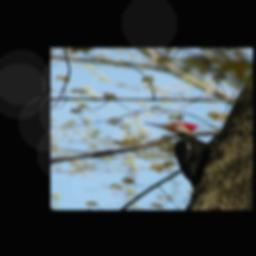Woodpecker: (139, 121, 219, 190)
